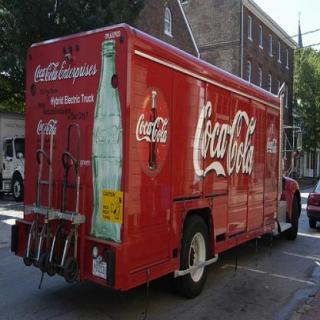Normal_vehicle: (8, 19, 304, 297)
